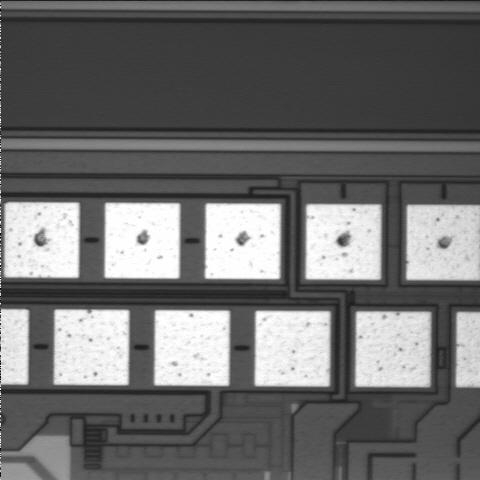pad: (4, 202, 80, 278), (104, 203, 180, 279), (205, 203, 281, 279), (305, 204, 381, 280), (154, 310, 230, 386), (355, 312, 431, 387), (54, 310, 129, 385), (255, 311, 330, 386)
